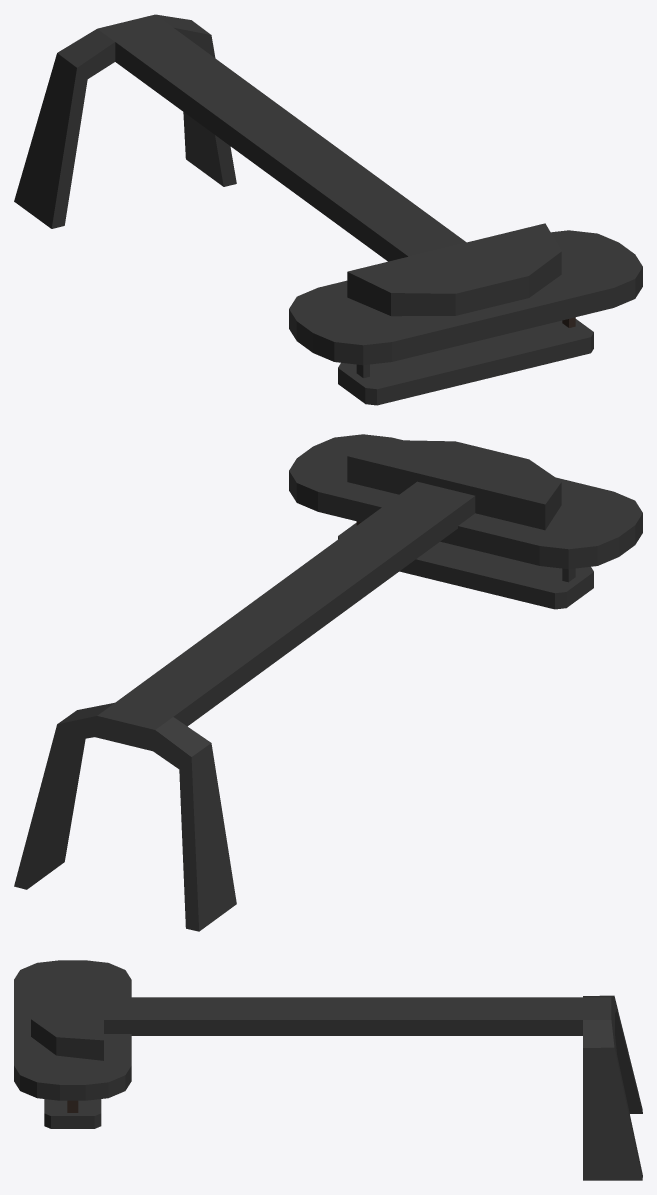
The model's file is pec-machine-ac-1.glb.
3 views of the same model, one above another, from view 1: azimuth 30°, elevation 25°; view 2: azimuth 150°, elevation 25°; view 3: azimuth 270°, elevation 25° (orthographic). The views are drawn at different scales.
Visible parts, largest first — view 1: Pec_Machine_Ac_1; view 2: Pec_Machine_Ac_1; view 3: Pec_Machine_Ac_1.
Part boxes in pixels (x1,y1,x2,y2): Pec_Machine_Ac_1: (14, 14, 642, 405); Pec_Machine_Ac_1: (14, 434, 642, 931); Pec_Machine_Ac_1: (14, 960, 642, 1180).
Size of the model in its own units: 35.54 by 18.98 by 75.79.
Materials: 1 (1 with a texture image).
